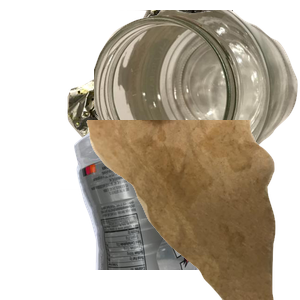glass: (94, 10, 300, 184)
metal: (60, 10, 300, 190)
plastic: (71, 120, 265, 300)
trash: (84, 120, 300, 300)
